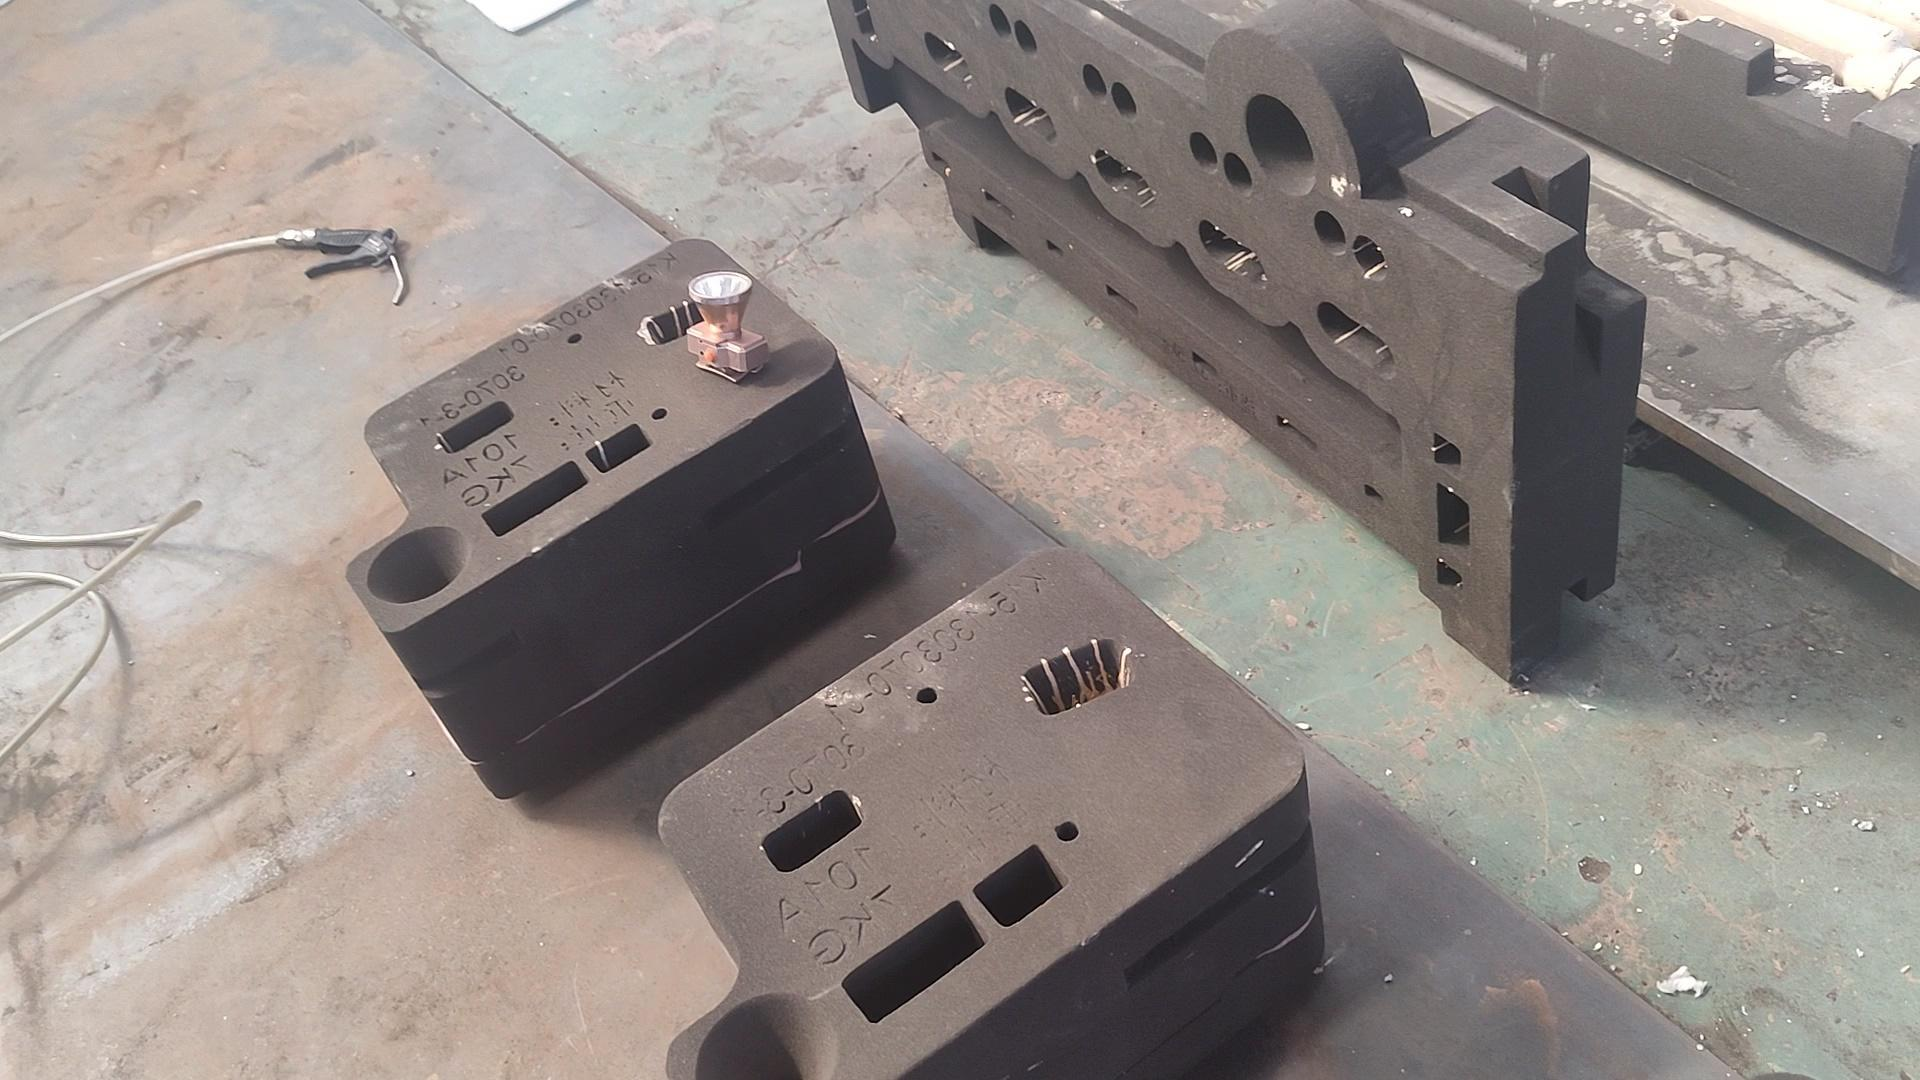pouring hole: (691, 986, 837, 1080), (364, 525, 468, 604), (1244, 95, 1317, 198)
